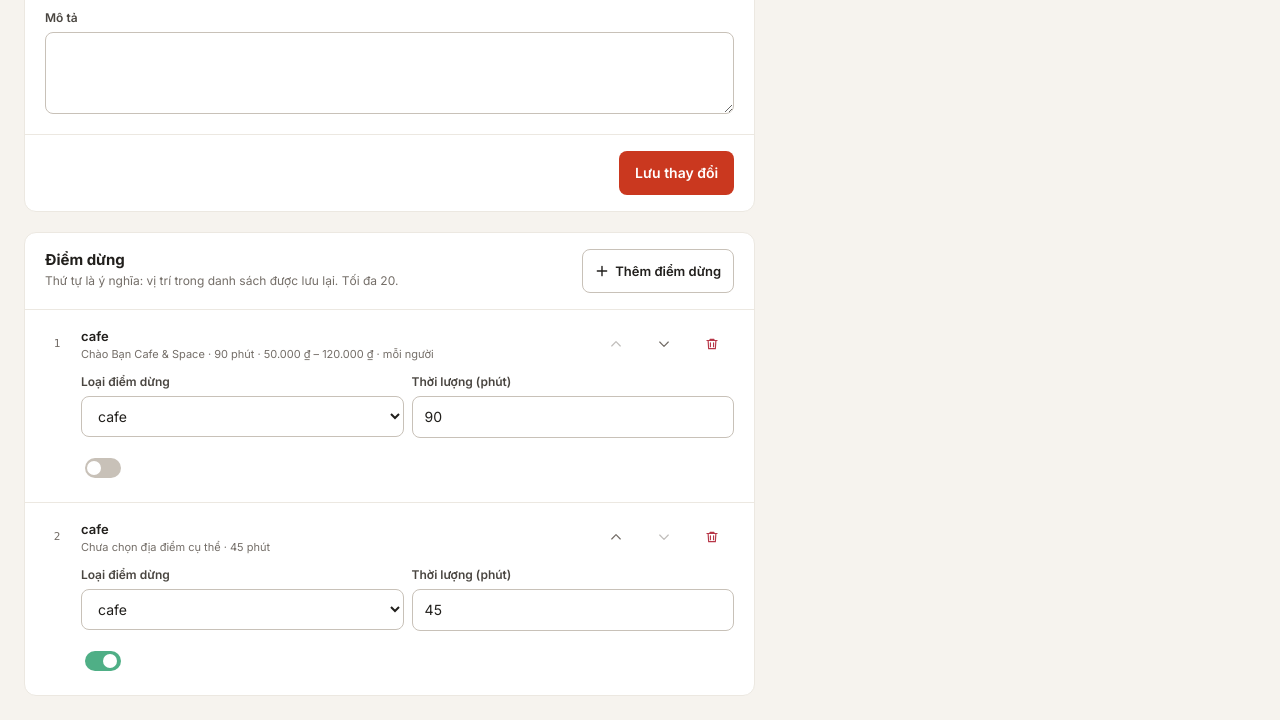
Test: plan template detail (CMS-026) › reorders stops by replacing the whole list
(page scrolled)
Expected: the heading "Điểm dừng" is shown, [45,250,125,269]
Step 1. Click the button named "Đưa điểm dừng 2 lên trên" → (616, 537), box [594,515,638,559]
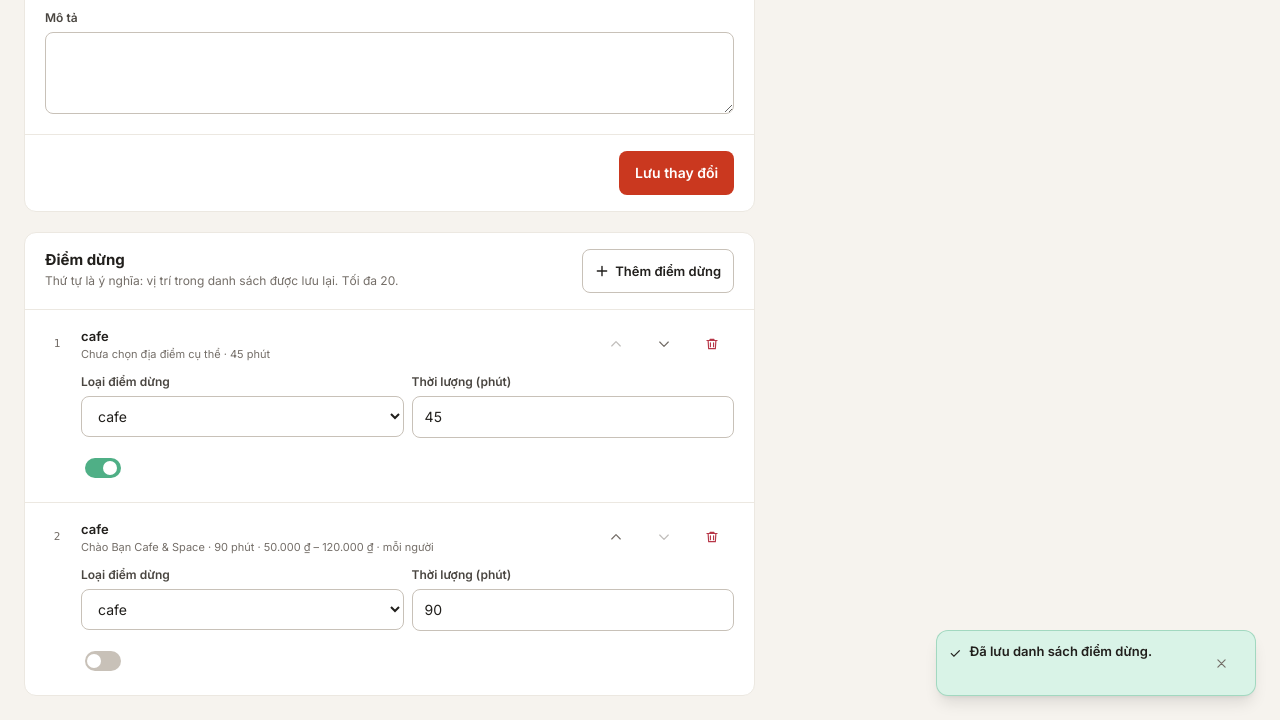
Result: the text "Đã lưu danh sách điểm dừng." is shown at [969,643,1152,659]
